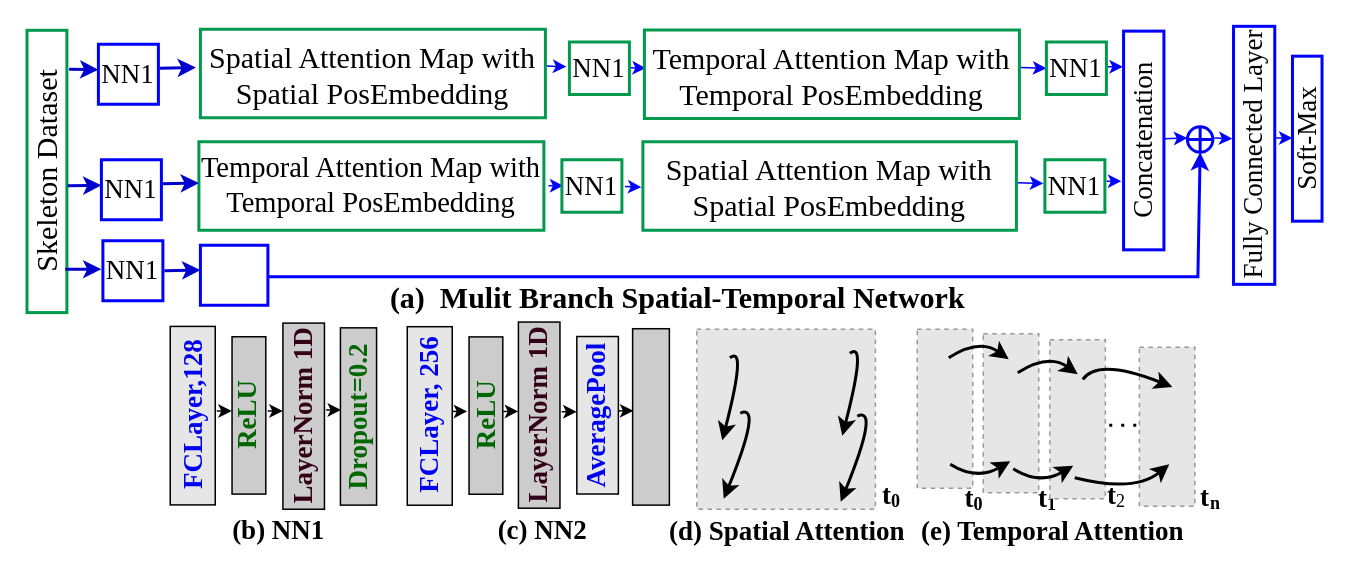
The diagram is 1350 pixels wide and 581 high, and some of its shapes have lost their labels. Grey dashed boxes stand in for pictures. Here are the shapes that lost their labels. From the top down, the centre of each, then its label:
At point 233,274: "NN2".
At point 650,416: "Padding".
